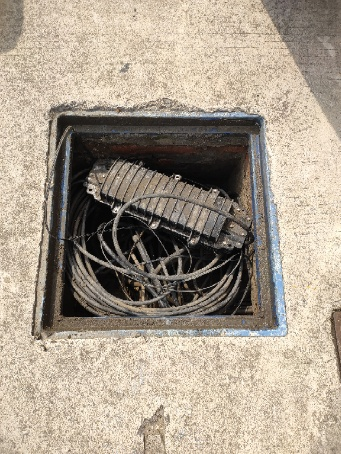lose: (30, 108, 289, 336)
